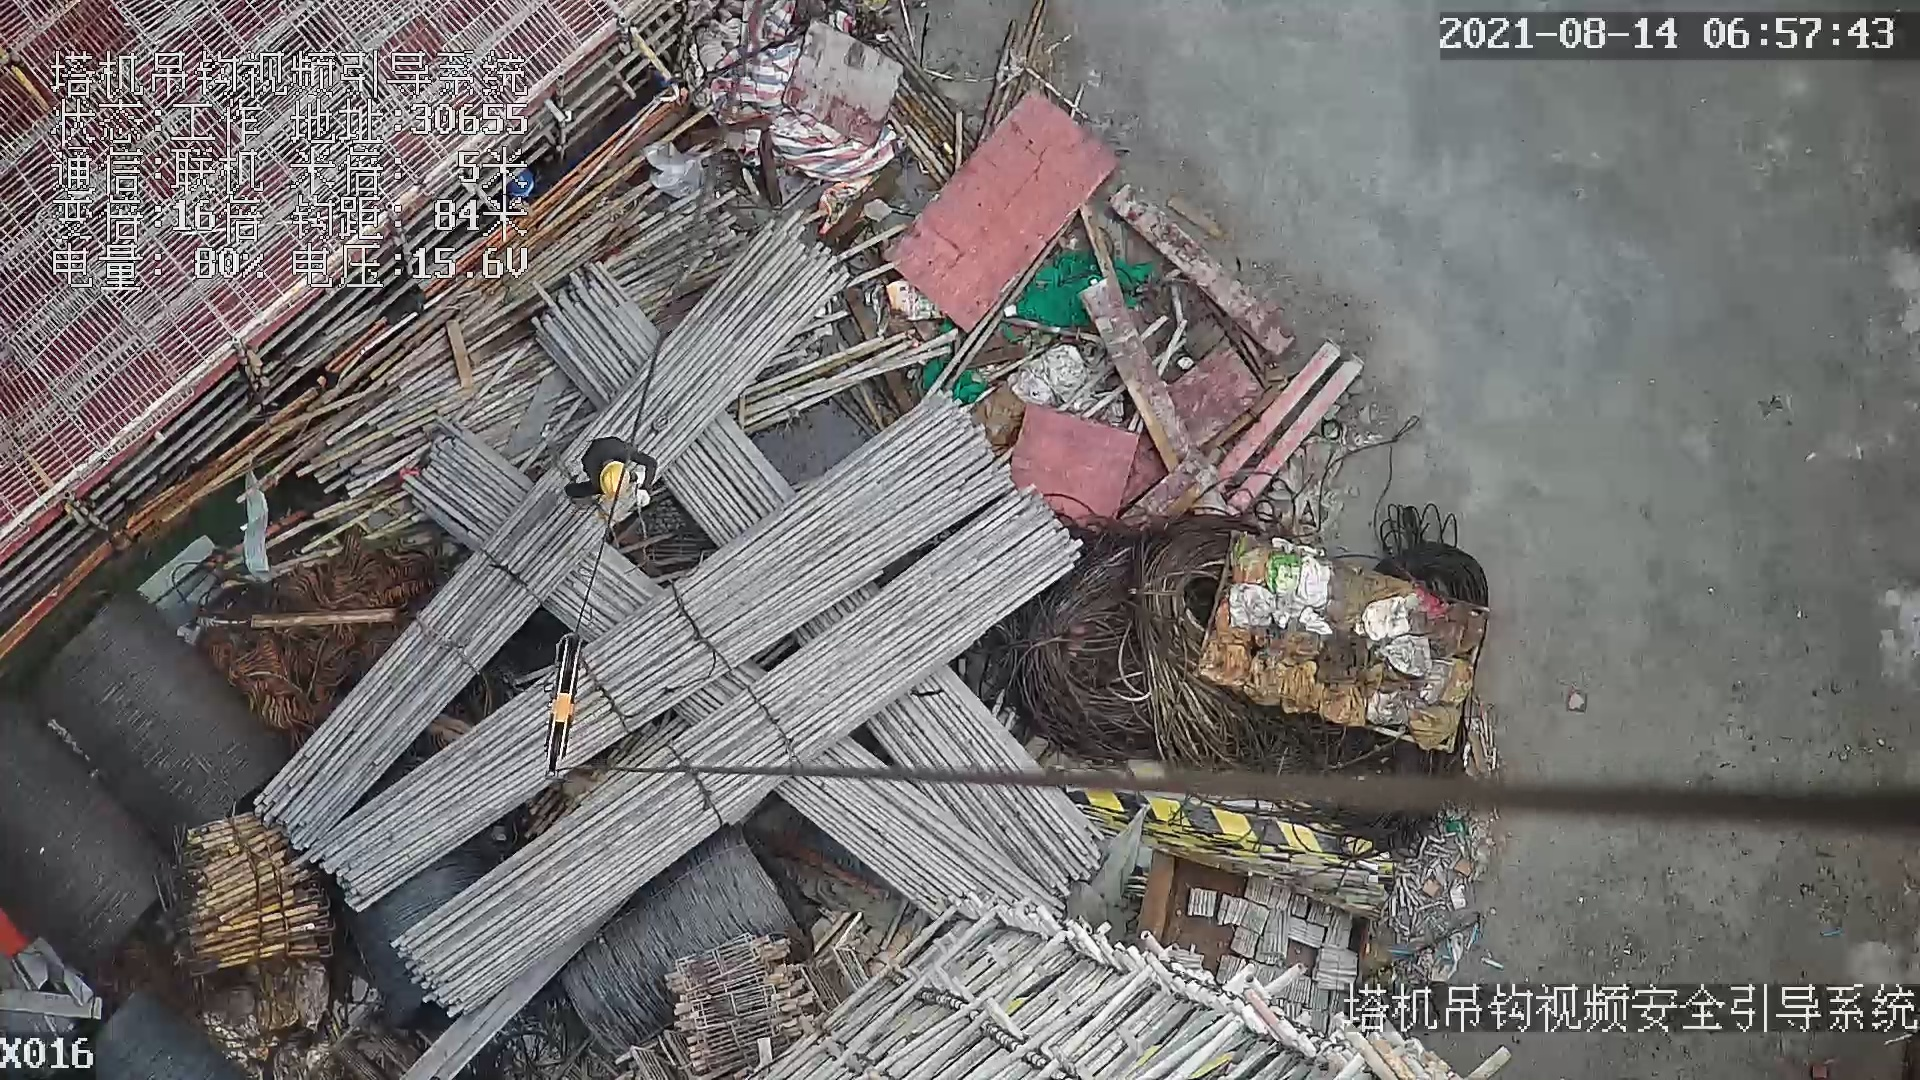helmet: (599, 460, 628, 497)
hook: (546, 632, 594, 777)
person: (572, 435, 656, 518)
rebar: (255, 212, 847, 854), (300, 391, 1015, 915), (396, 489, 1078, 1015), (783, 737, 1070, 922), (871, 665, 1104, 885)
scaffold: (182, 808, 333, 970)
